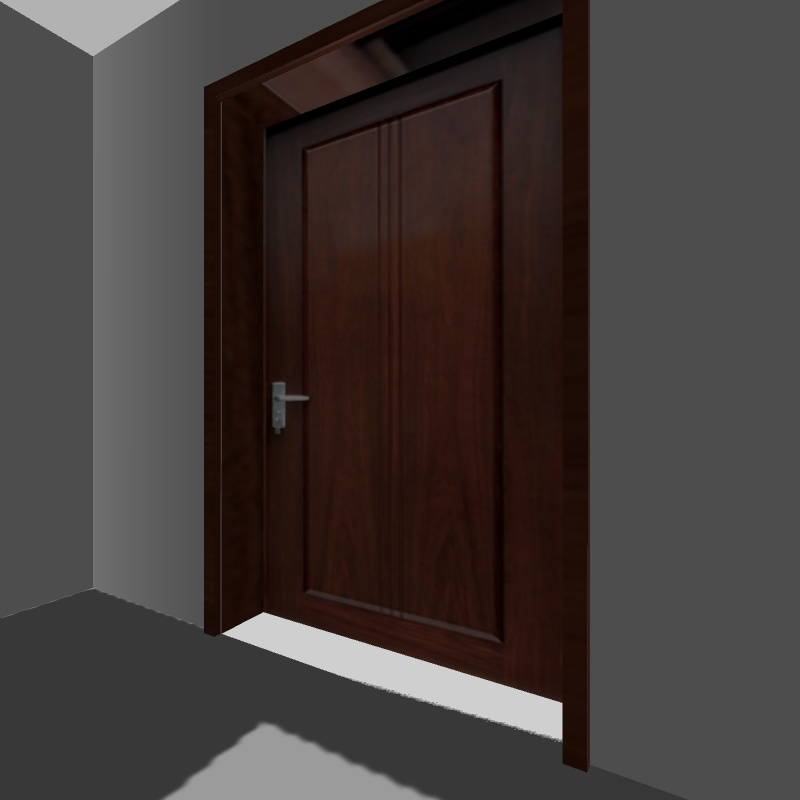handle: (262, 379, 311, 436)
